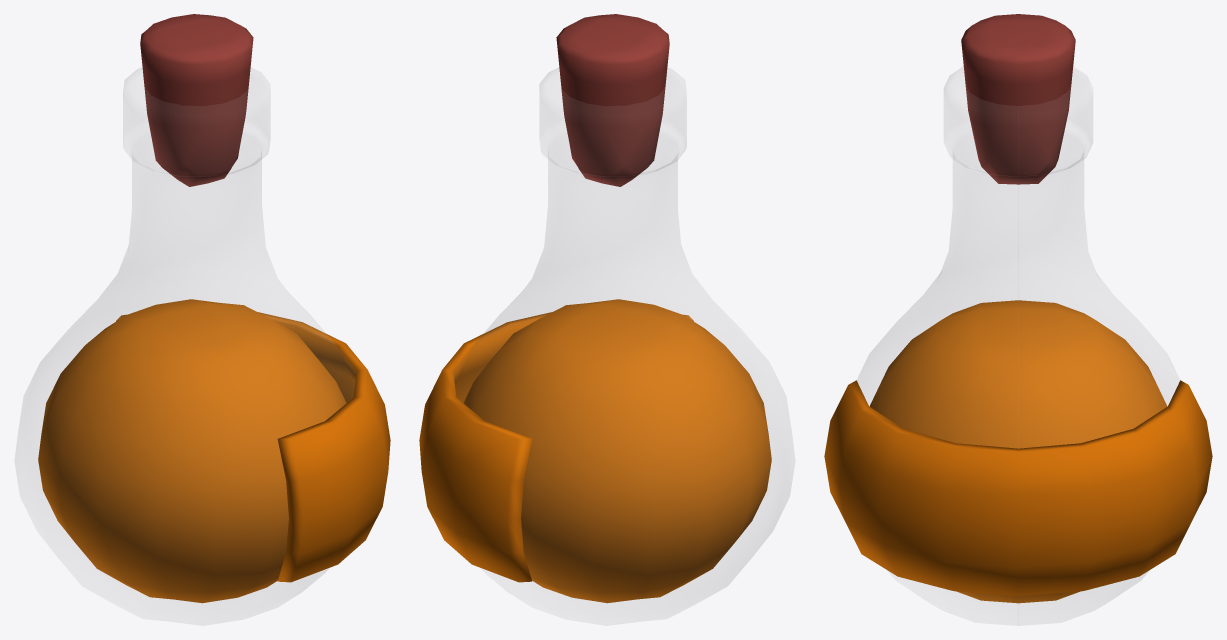
File: PickupPotionStrength.dae
3 renders of one model, left to right at view 1: azimuth 30°, elevation 25°; view 2: azimuth 150°, elevation 25°; view 3: azimuth 270°, elevation 25°, orthographic.
Parts seen in each view (by area): view 1: PotionStrength; view 2: PotionStrength; view 3: PotionStrength.
Part boxes in pixels (box(x1,y1,x2,y2)): PotionStrength: box(15, 14, 390, 625); PotionStrength: box(419, 14, 794, 625); PotionStrength: box(824, 14, 1212, 625).
Bounding box in the file's own units: 0.2712 × 0.2768 × 0.4415.
